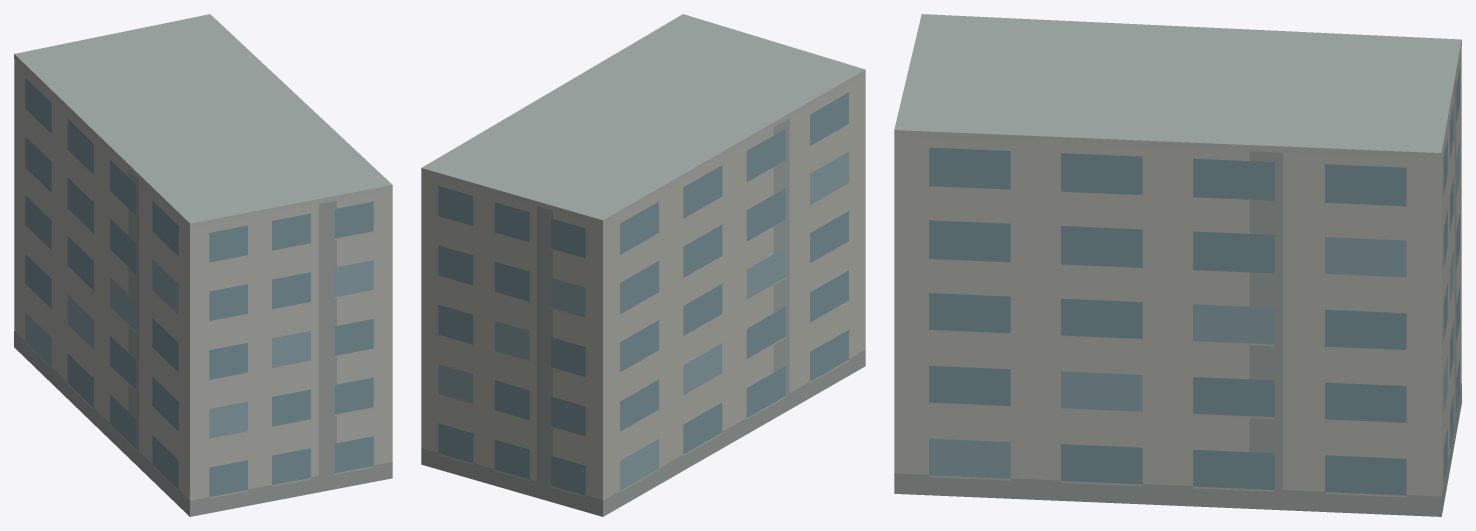
Rendered from survey-upis-32567218.glb.
3 views of the same model, side by side, from view 1: azimuth 30°, elevation 25°; view 2: azimuth 150°, elevation 25°; view 3: azimuth 270°, elevation 25° (orthographic). The views are drawn at different scales.
Visible parts, largest first — view 1: survey-upis-32567218.tmp; view 2: survey-upis-32567218.tmp; view 3: survey-upis-32567218.tmp.
Part boxes in pixels (x1,y1,x2,y2): survey-upis-32567218.tmp: [14, 14, 392, 516]; survey-upis-32567218.tmp: [421, 14, 865, 516]; survey-upis-32567218.tmp: [894, 14, 1461, 516].
Size of the model in its own units: 11.86 by 14.45 by 20.44.
